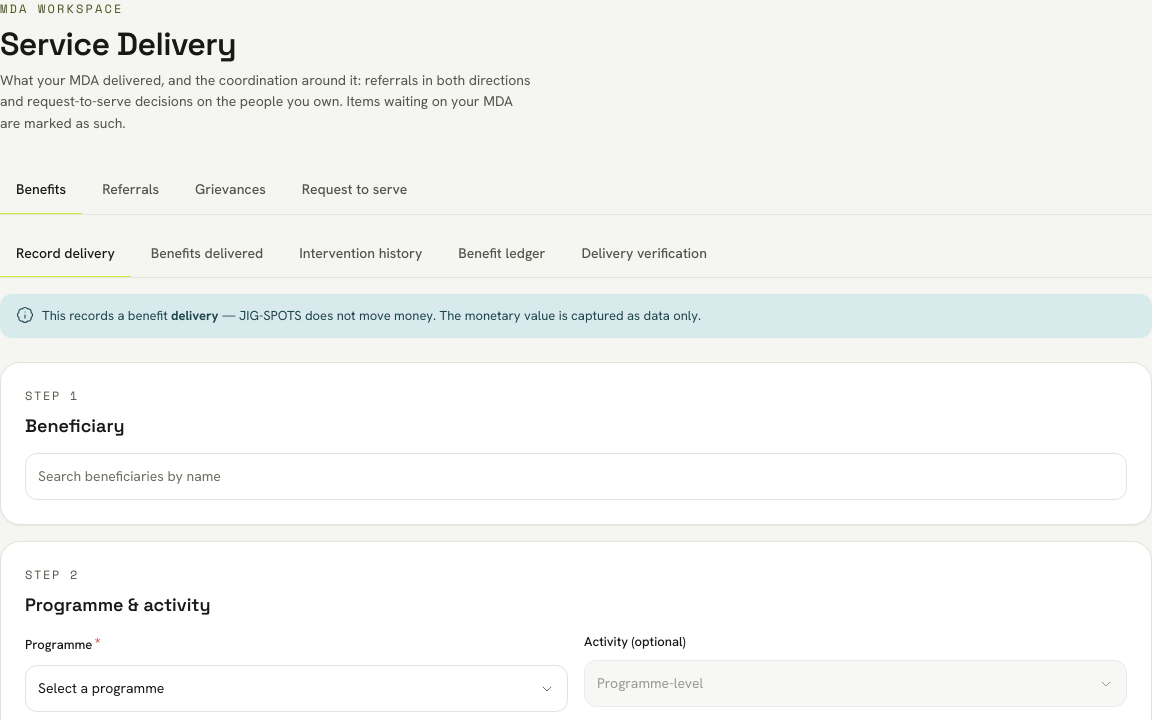
MDA console — Service Delivery › refuses the tab without the grievance permission
Click the tab "Grievances": coordinates (230, 191) 179,167 -> 282,214
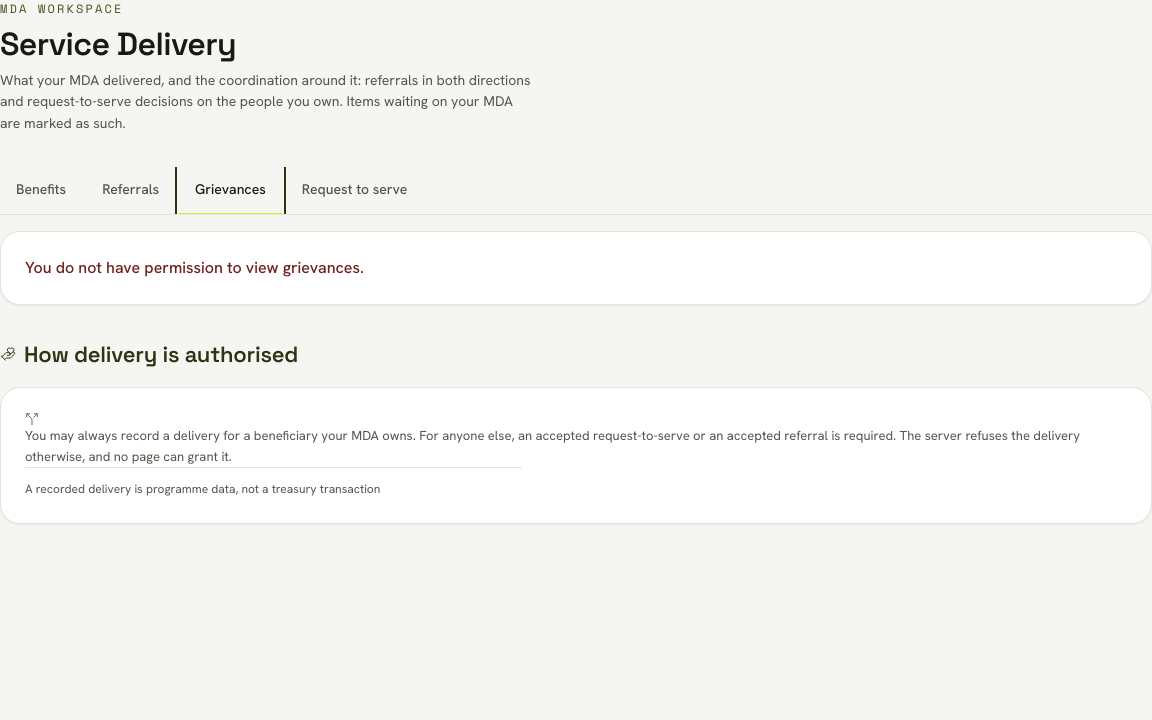
Expected: the text "You do not have permission to view grievances." is shown, 25,256 -> 364,278
